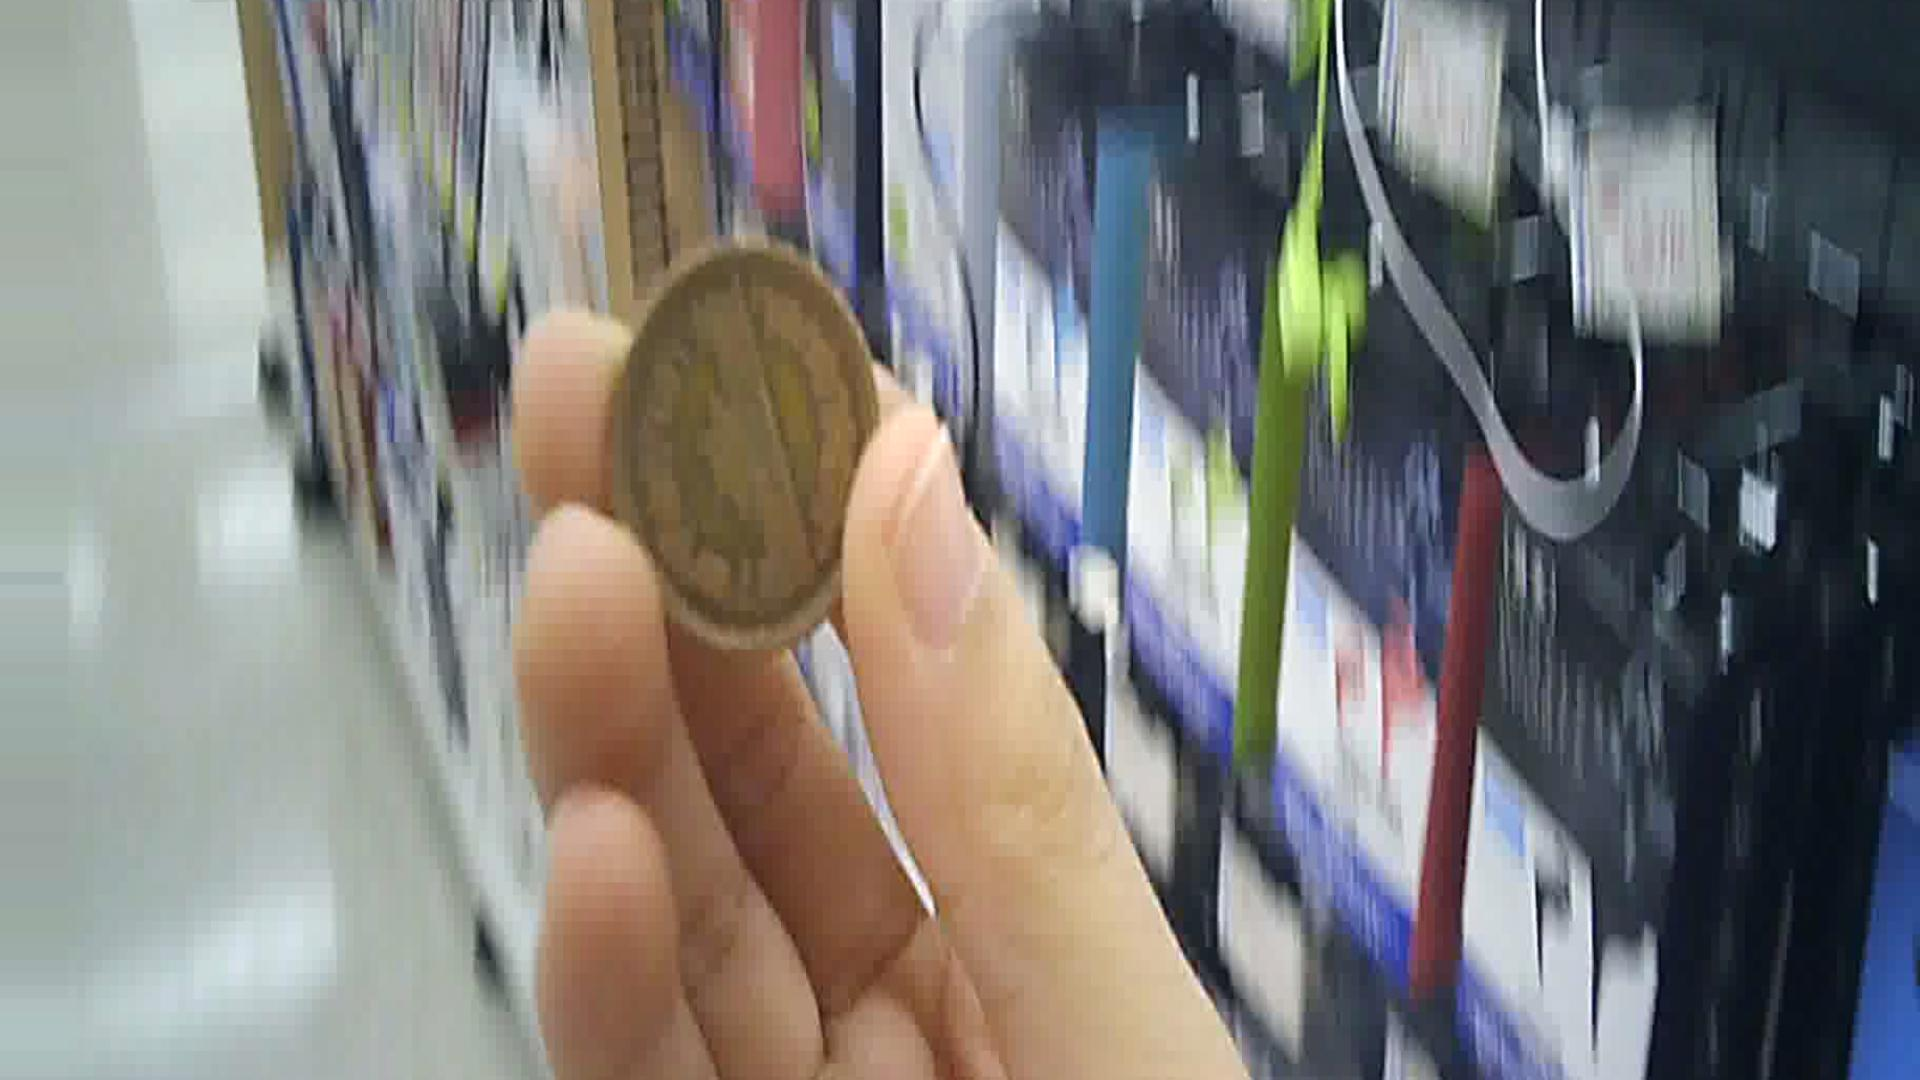10 Yen: (595, 229, 890, 628)
